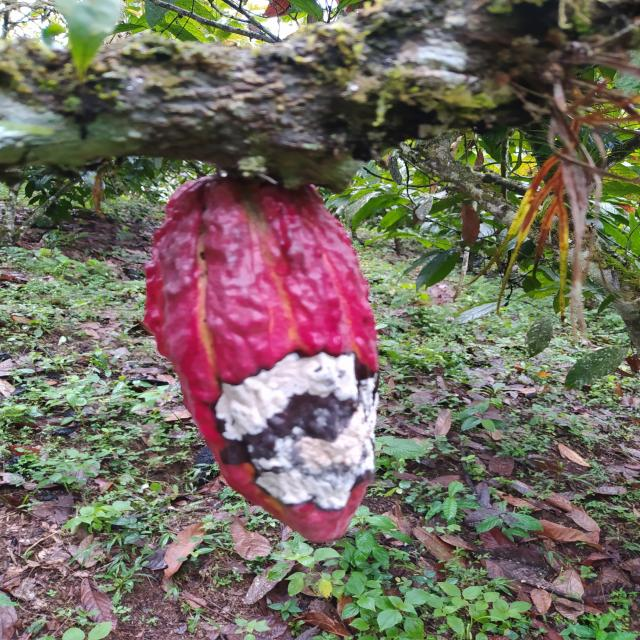Monilia: (144, 172, 380, 545)
